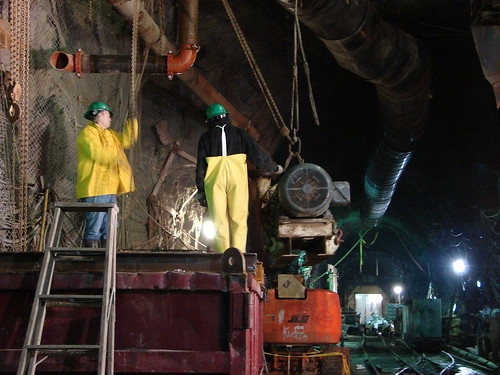person hardhat: (53, 98, 145, 249), (195, 104, 255, 258)
